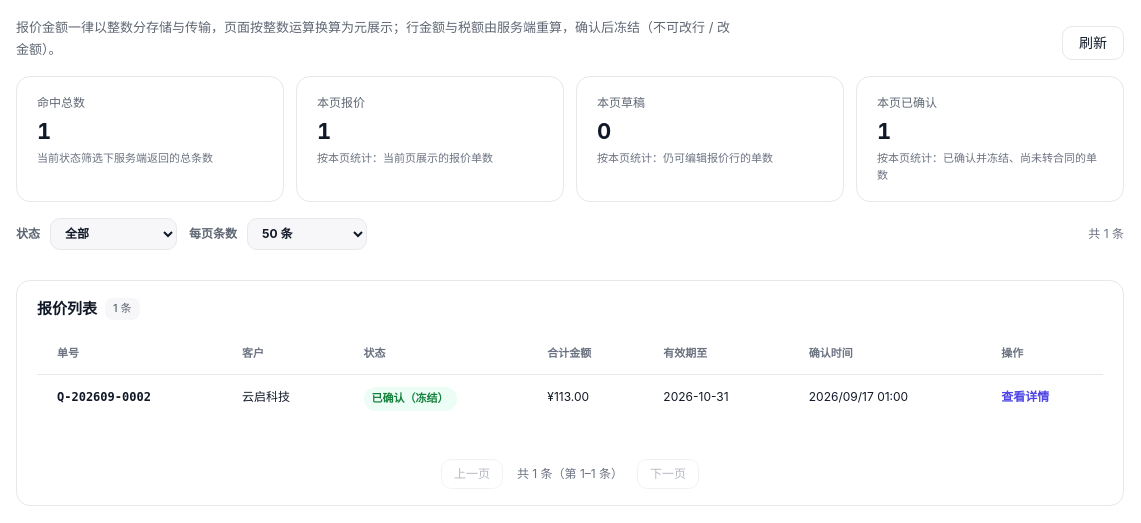
Test: CrmQuotesPage › freezes a confirmed quote: no line editing, only the follow-up actions
Click the button "查看详情". click: (1025, 397)
box: [1001,387,1049,406]
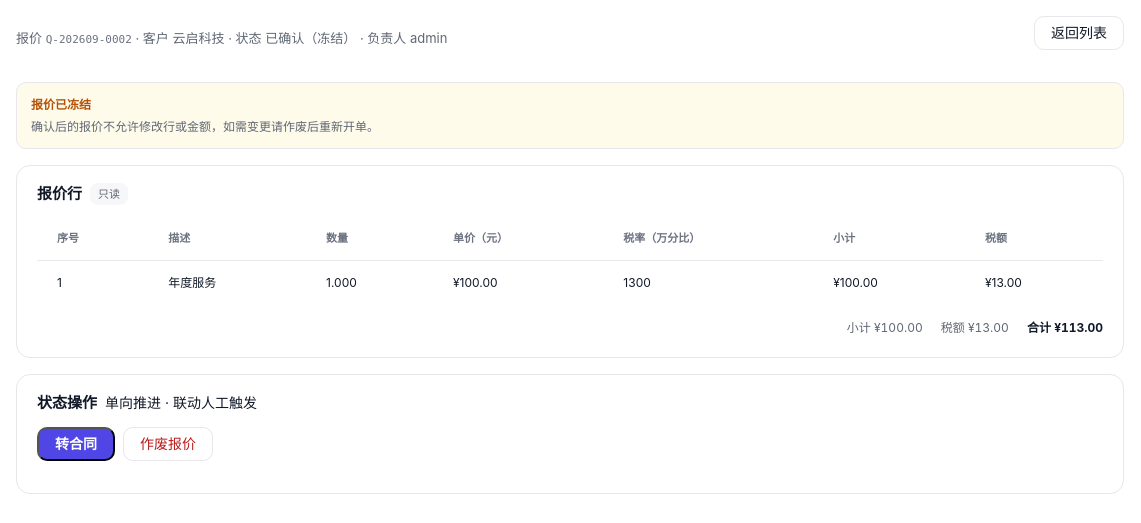
Result: the text "报价已冻结" is shown at [31,97,91,112]
Result: the button "转合同" is shown at [37,427,115,461]
Result: the button "作废报价" is shown at [123,427,213,461]
